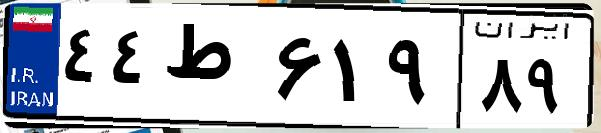1: (330, 28, 385, 110)
4: (57, 26, 110, 100), (110, 28, 158, 98)
6: (270, 28, 330, 110)
8: (475, 38, 525, 113)
9: (385, 28, 445, 110), (525, 38, 570, 115)
ط: (158, 20, 270, 120)
